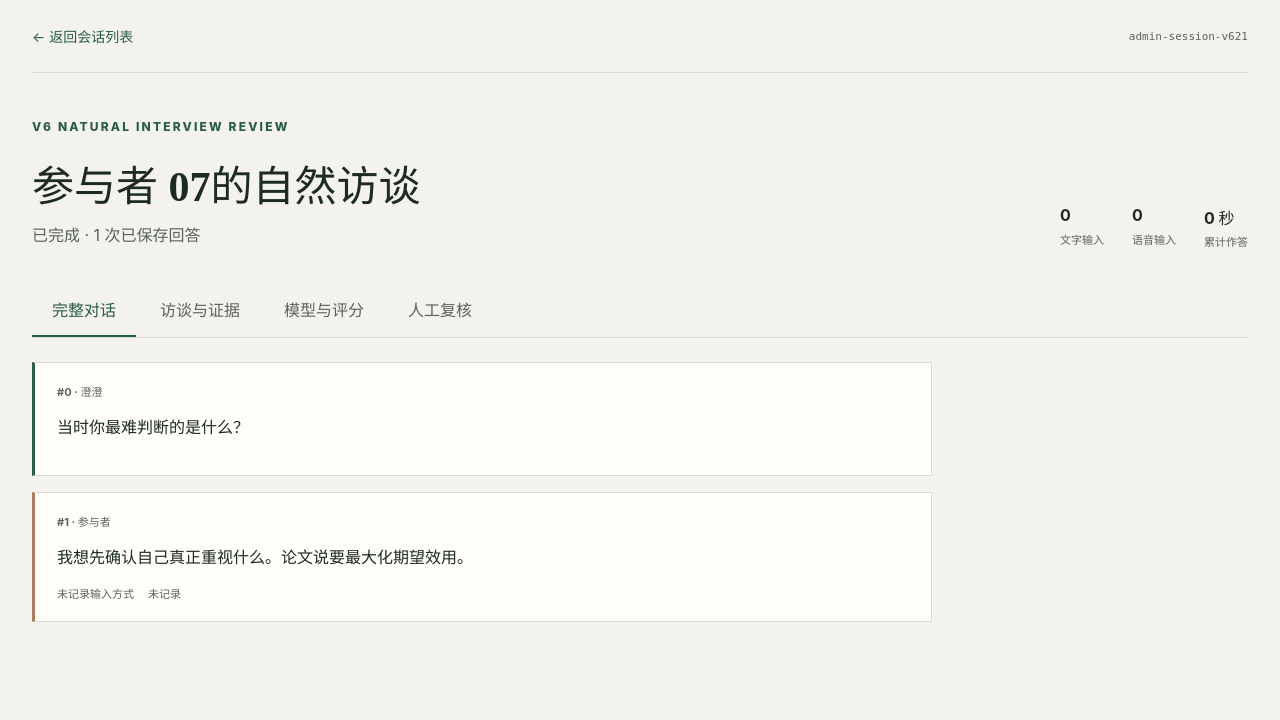
it: AdminSessionDetailView evidence attribution › renders the current backend attribution and finalized evidence wire
Click the button "访谈与证据" at [200, 310], box [140, 283, 260, 337]
(page scrolled)
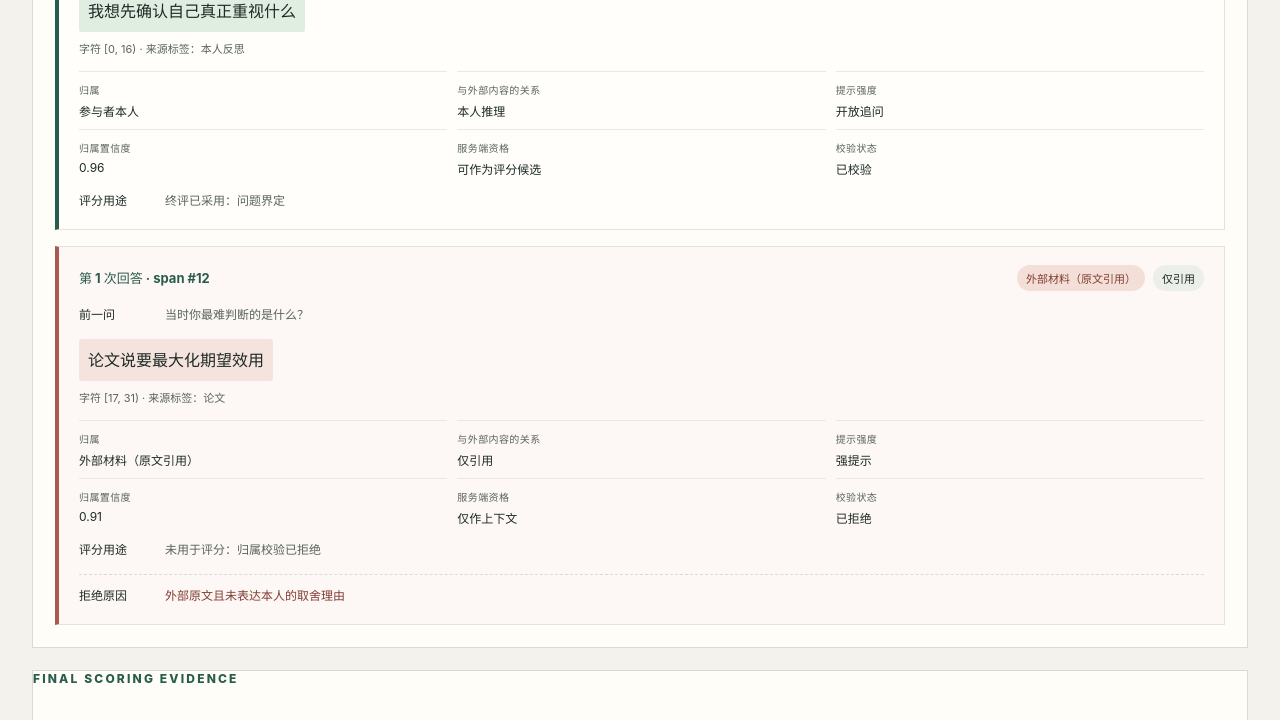
Expected: the text "参与者本人" is shown, [79, 104, 139, 119]
Expected: the text "外部材料（原文引用）" is shown, [1017, 264, 1145, 290]
Expected: the text "开放追问" is shown, [836, 104, 884, 119]
